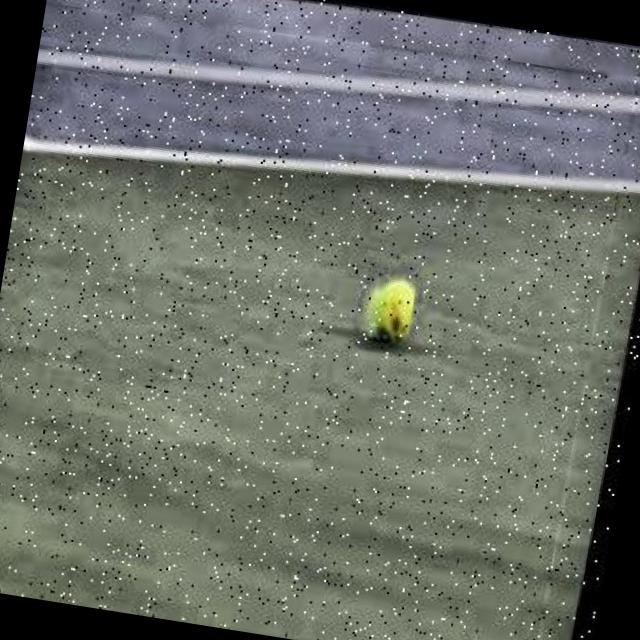Tennis Ball: (367, 276, 421, 346)
